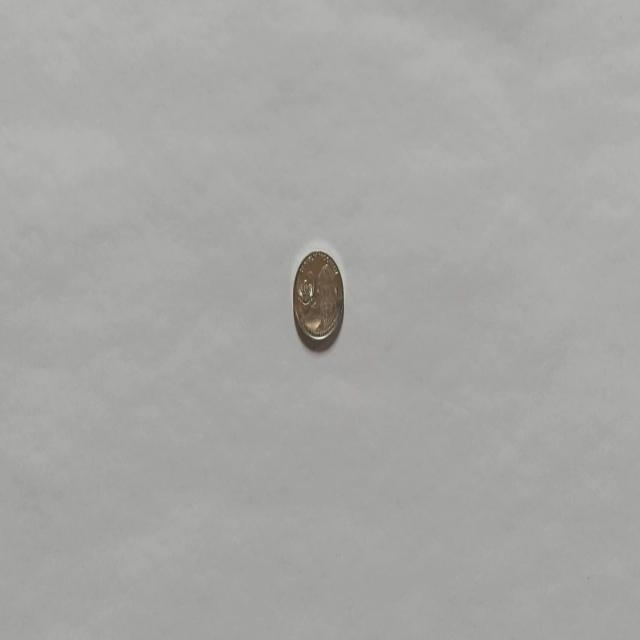dua ratus rupiah: (292, 249, 344, 343)
